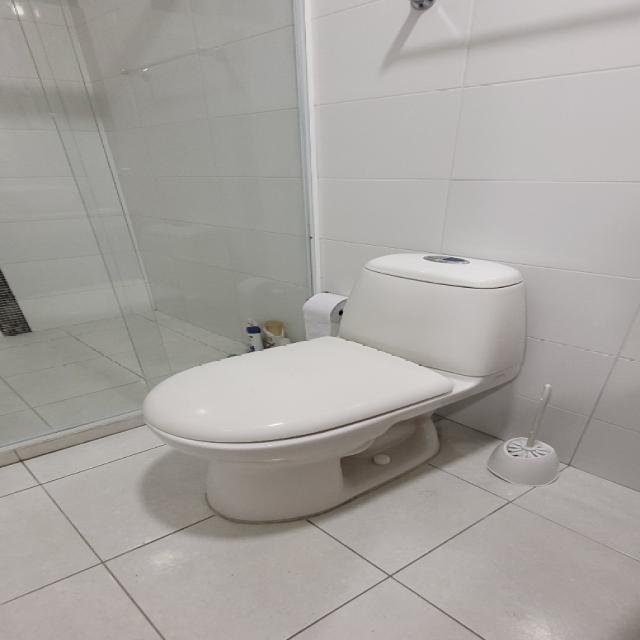toilet: (141, 252, 527, 524)
